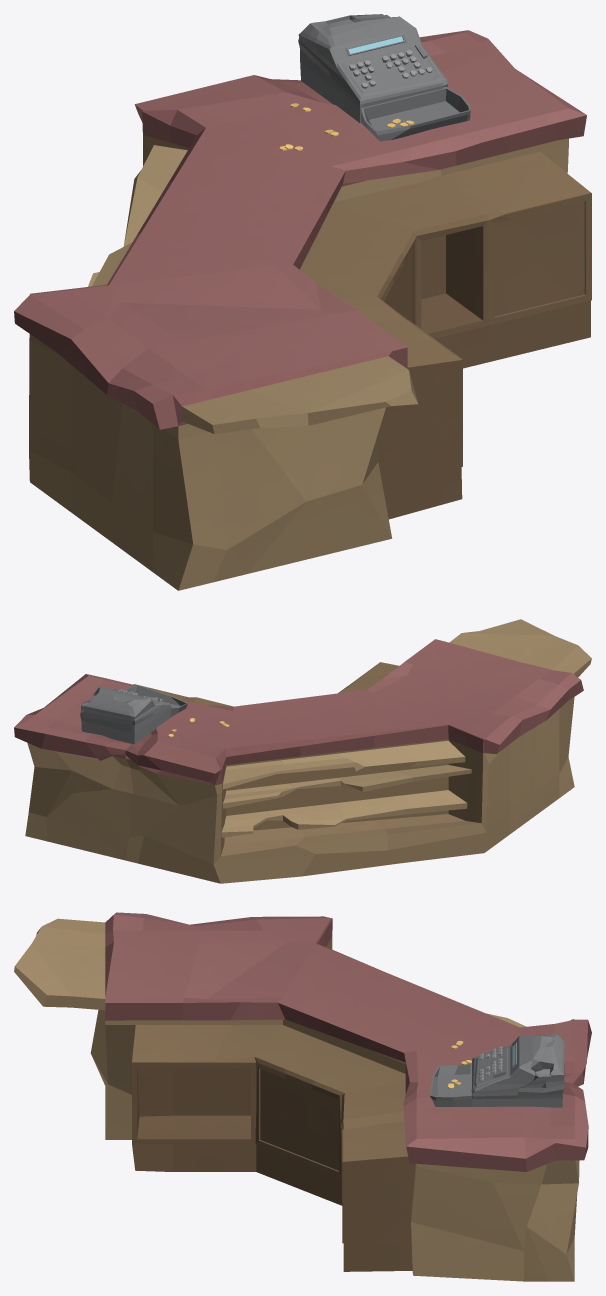
Rendered from counter.glb.
The picture shows the model from 3 angles, top to bottom: view 1: azimuth 30°, elevation 25°; view 2: azimuth 150°, elevation 25°; view 3: azimuth 270°, elevation 25°; orthographic projection. The views are drawn at different scales.
Parts seen in each view (by area): view 1: counter, cash_machine; view 2: counter, cash_machine; view 3: counter, cash_machine.
Part boxes in pixels (<box>): counter: <box>14,30,591,590</box>; cash_machine: <box>298,14,470,141</box>; counter: <box>14,619,591,883</box>; cash_machine: <box>80,685,187,744</box>; counter: <box>14,912,591,1281</box>; cash_machine: <box>429,1034,565,1107</box>.
Bounding box in the file's own units: 2.43 × 0.9146 × 2.52.
Materials: 1 (1 with a texture image).
